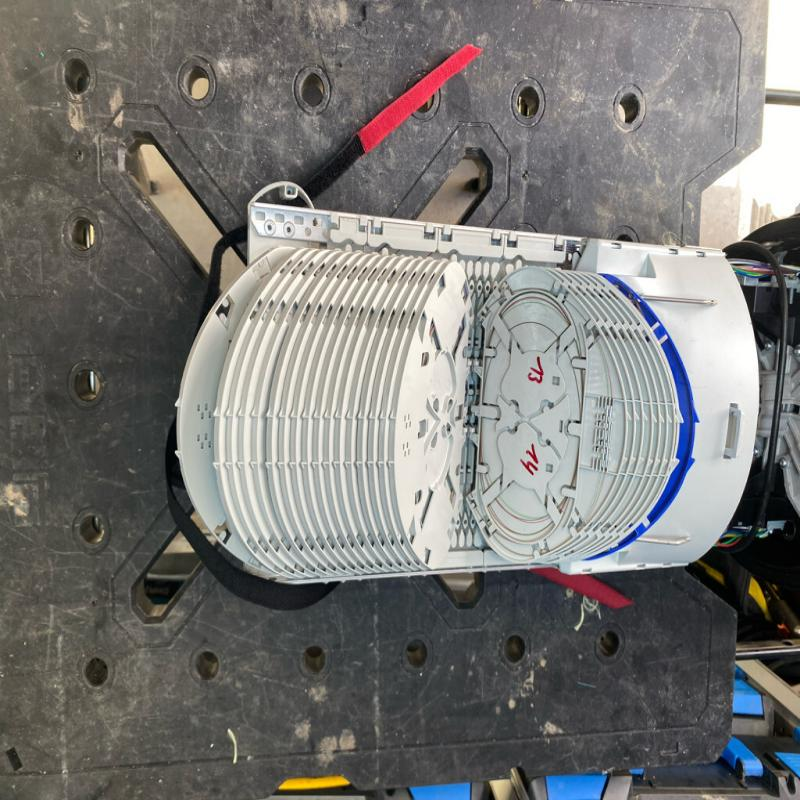NT-Muffen: (175, 194, 798, 616)
